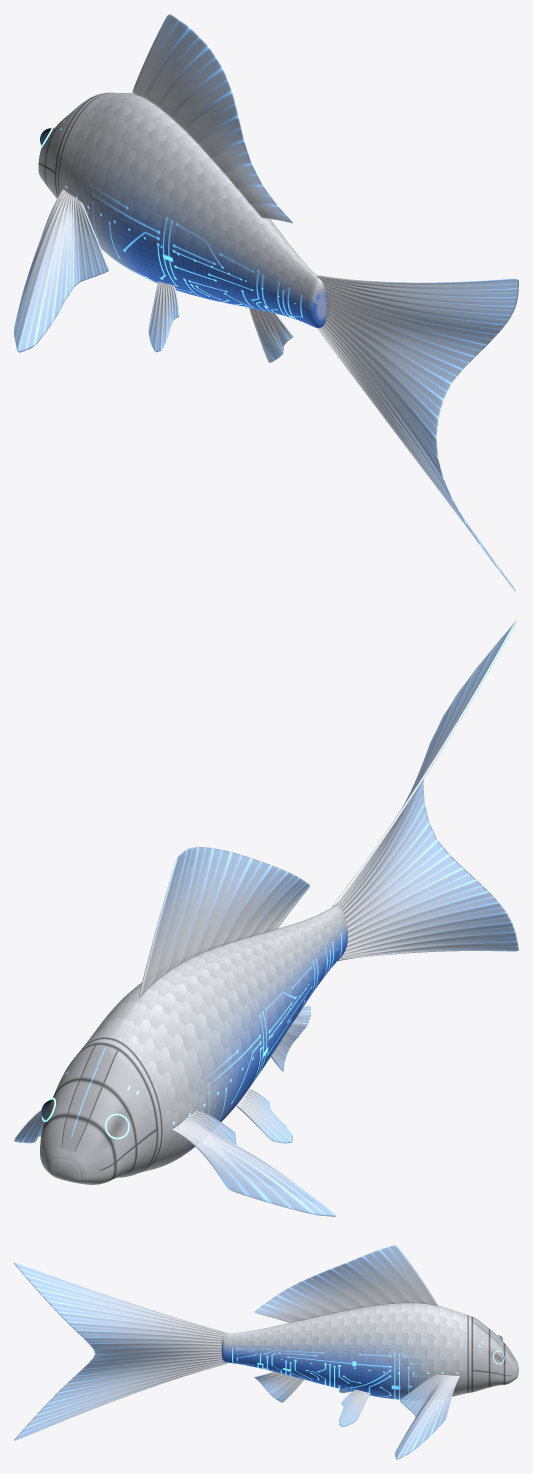
Rendered from cyberfish_straight.glb.
3 renders of one model, top to bottom at view 1: azimuth 30°, elevation 25°; view 2: azimuth 150°, elevation 25°; view 3: azimuth 270°, elevation 25°, orthographic. The views are drawn at different scales.
Parts seen in each view (by area): view 1: CF_Body, CF_FinTail, CF_FinDorsal, CF_FinPectoral.R, CF_FinPelvic.R, CF_FinAnal; view 2: CF_Body, CF_FinTail, CF_FinDorsal, CF_FinPectoral.R, CF_FinPelvic.R, CF_FinAnal; view 3: CF_Body, CF_FinTail, CF_FinDorsal, CF_FinPectoral.L, CF_FinAnal, CF_FinPelvic.L.
Part boxes in pixels (<box>): CF_Body: <box>38,92,327,327</box>; CF_FinTail: <box>316,275,518,591</box>; CF_FinDorsal: <box>132,14,292,223</box>; CF_FinPectoral.R: <box>14,189,108,352</box>; CF_FinPelvic.R: <box>148,281,179,352</box>; CF_FinAnal: <box>249,308,293,362</box>; CF_Body: <box>40,906,347,1184</box>; CF_FinTail: <box>332,620,518,960</box>; CF_FinDorsal: <box>139,846,309,997</box>; CF_FinPectoral.R: <box>171,1110,335,1216</box>; CF_FinPelvic.R: <box>236,1089,292,1143</box>; CF_FinAnal: <box>271,1005,310,1071</box>; CF_Body: <box>221,1303,518,1399</box>; CF_FinTail: <box>14,1263,228,1440</box>; CF_FinDorsal: <box>254,1245,437,1322</box>; CF_FinPectoral.L: <box>395,1374,459,1459</box>; CF_FinAnal: <box>254,1371,303,1402</box>; CF_FinPelvic.L: <box>339,1389,370,1427</box>.
Bounding box in the file's own units: 2.66 × 2.84 × 6.77.
5 materials, 3 textured.
